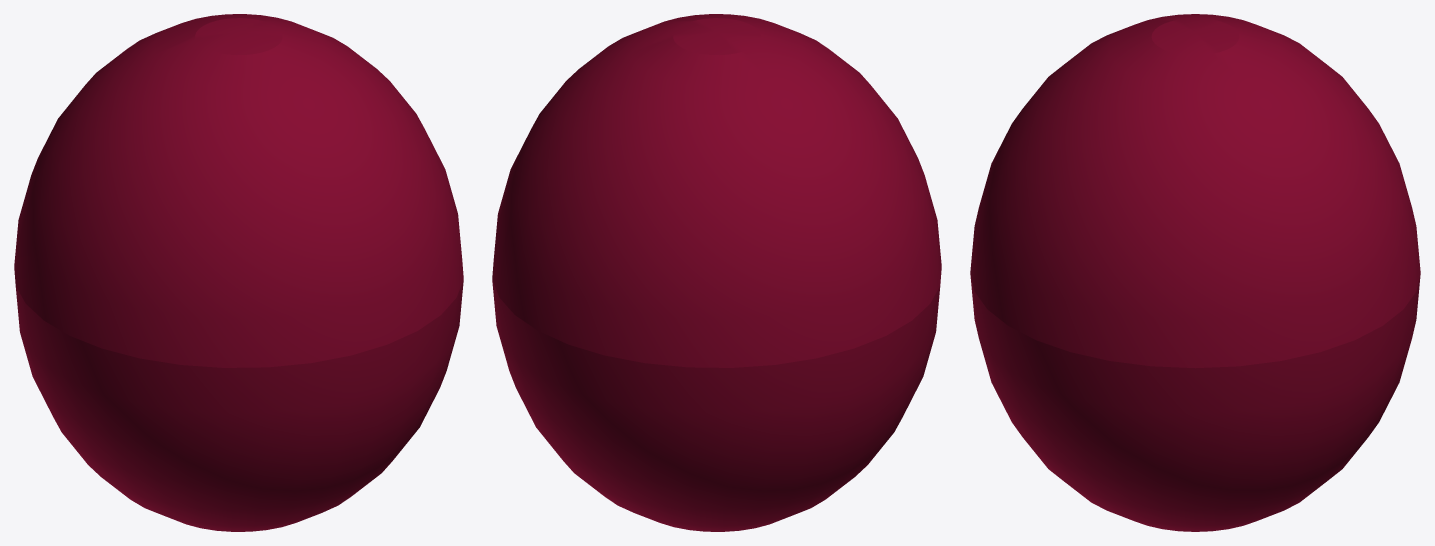
File: Fruit_Passion Fruit_Sliced.fbx
3 views of the same model, side by side, from view 1: azimuth 30°, elevation 25°; view 2: azimuth 150°, elevation 25°; view 3: azimuth 270°, elevation 25° (orthographic).
Visible parts, largest first — view 1: Passion_Fruit_Top, Passion_Fruit_Bottom; view 2: Passion_Fruit_Top, Passion_Fruit_Bottom; view 3: Passion_Fruit_Top, Passion_Fruit_Bottom.
Part boxes in pixels (x1=…): Passion_Fruit_Top: x1=14, y1=14, x2=463, y2=367; Passion_Fruit_Bottom: x1=15, y1=280, x2=463, y2=531; Passion_Fruit_Top: x1=492, y1=14, x2=941, y2=367; Passion_Fruit_Bottom: x1=492, y1=280, x2=940, y2=531; Passion_Fruit_Top: x1=970, y1=14, x2=1420, y2=368; Passion_Fruit_Bottom: x1=970, y1=274, x2=1420, y2=531.
Bounding box in the file's own units: 200 × 236 × 200.
